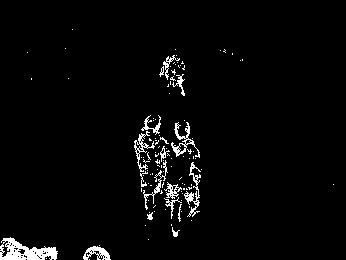person: (165, 116, 203, 238), (135, 115, 167, 220)
